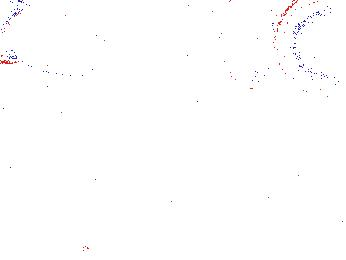moon jellyfish: (11, 1, 124, 75), (273, 1, 346, 98), (132, 2, 215, 77), (221, 10, 274, 89)
